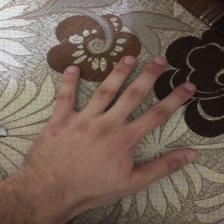five: (36, 48, 202, 210)
